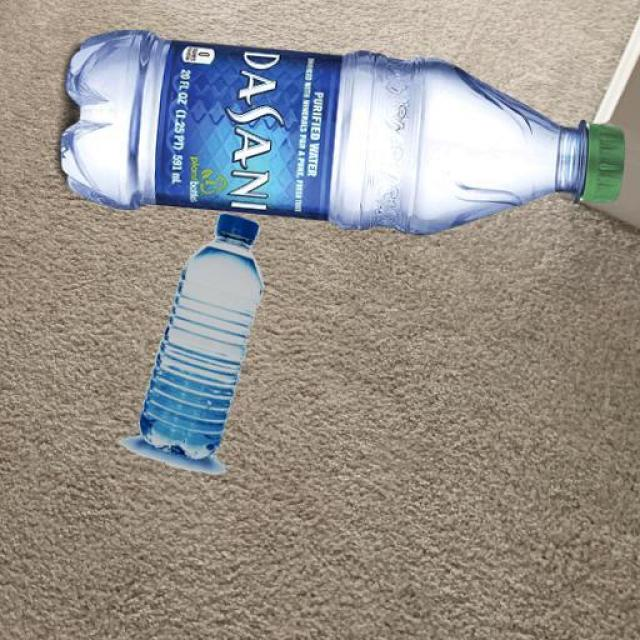bottle: (125, 217, 272, 484)
